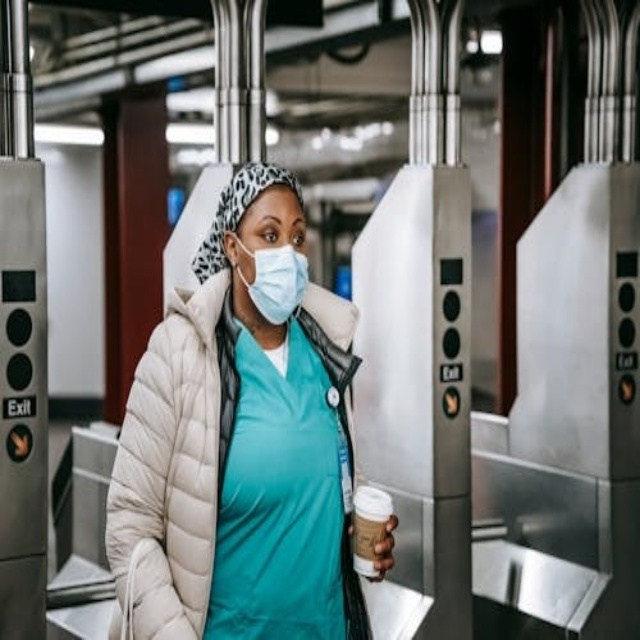Mascara: (236, 235, 309, 325)
Sin_gafas: (246, 209, 314, 248)
Sin_guantes: (353, 511, 397, 583)
